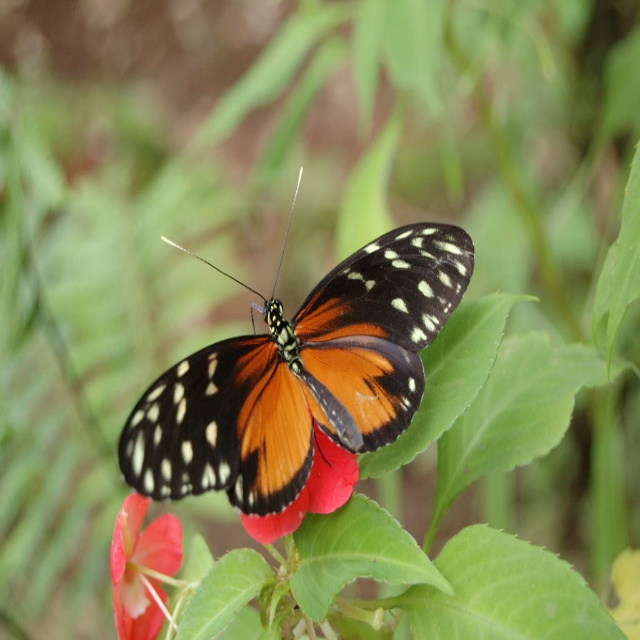Butterfly: (110, 171, 479, 534)
